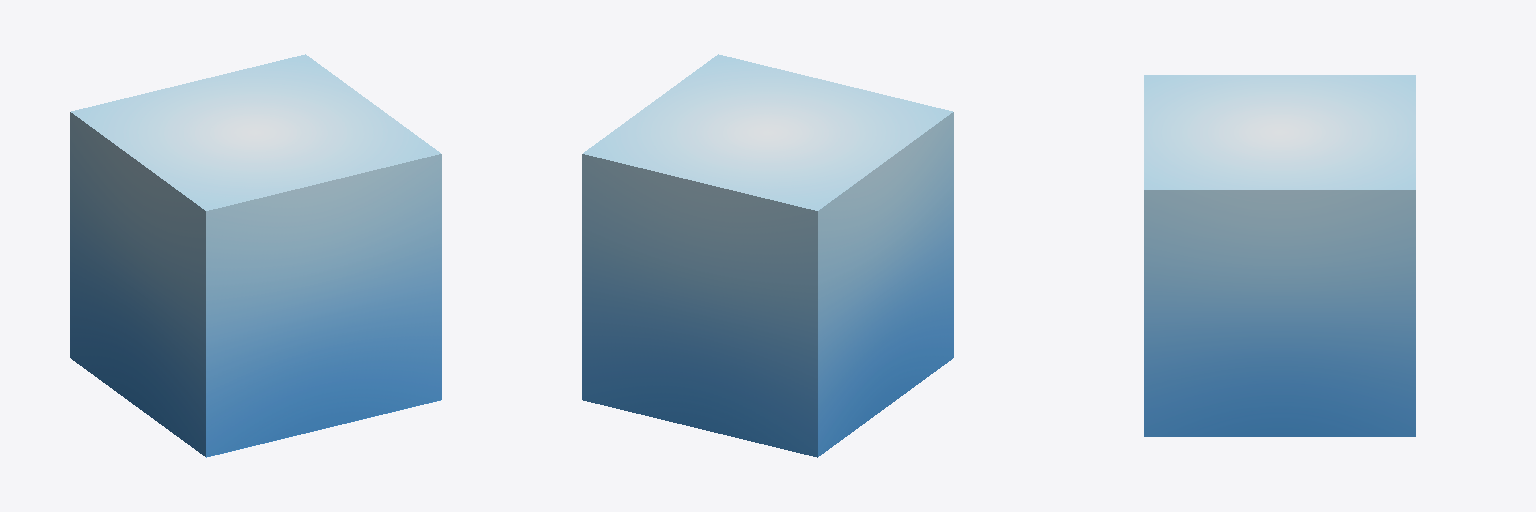
3 views of the same model, side by side, from view 1: azimuth 30°, elevation 25°; view 2: azimuth 150°, elevation 25°; view 3: azimuth 270°, elevation 25° (orthographic).
Parts seen in each view (by area): view 1: Cube_Cube.001; view 2: Cube_Cube.001; view 3: Cube_Cube.001.
Part boxes in pixels (x1,y1,x2,y2): Cube_Cube.001: (70,54,441,457); Cube_Cube.001: (582,54,953,457); Cube_Cube.001: (1144,75,1415,436).
Bounding box in the file's own units: 2 × 2 × 2.
1 materials, 1 textured.